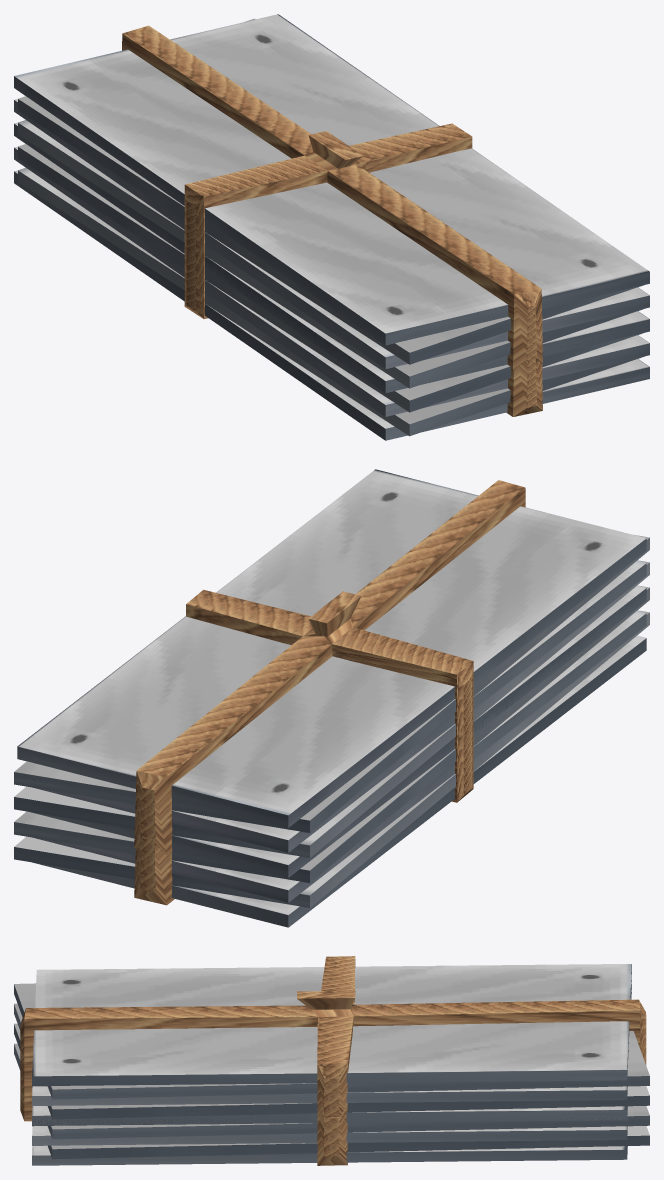
The model's file is CSR_BoundMetalSheets10.fbx.
3 renders of one model, top to bottom at view 1: azimuth 30°, elevation 25°; view 2: azimuth 150°, elevation 25°; view 3: azimuth 270°, elevation 25°, orthographic. The views are drawn at different scales.
Parts seen in each view (by area): view 1: Metal Sheets x10; view 2: Metal Sheets x10; view 3: Metal Sheets x10.
Part boxes in pixels (<box>): Metal Sheets x10: <box>14,14,649,440</box>; Metal Sheets x10: <box>14,469,649,927</box>; Metal Sheets x10: <box>14,956,649,1165</box>.
Bounding box in the file's own units: 0.2128 × 0.0981 × 0.4795.
Materials: 1 (1 with a texture image).
